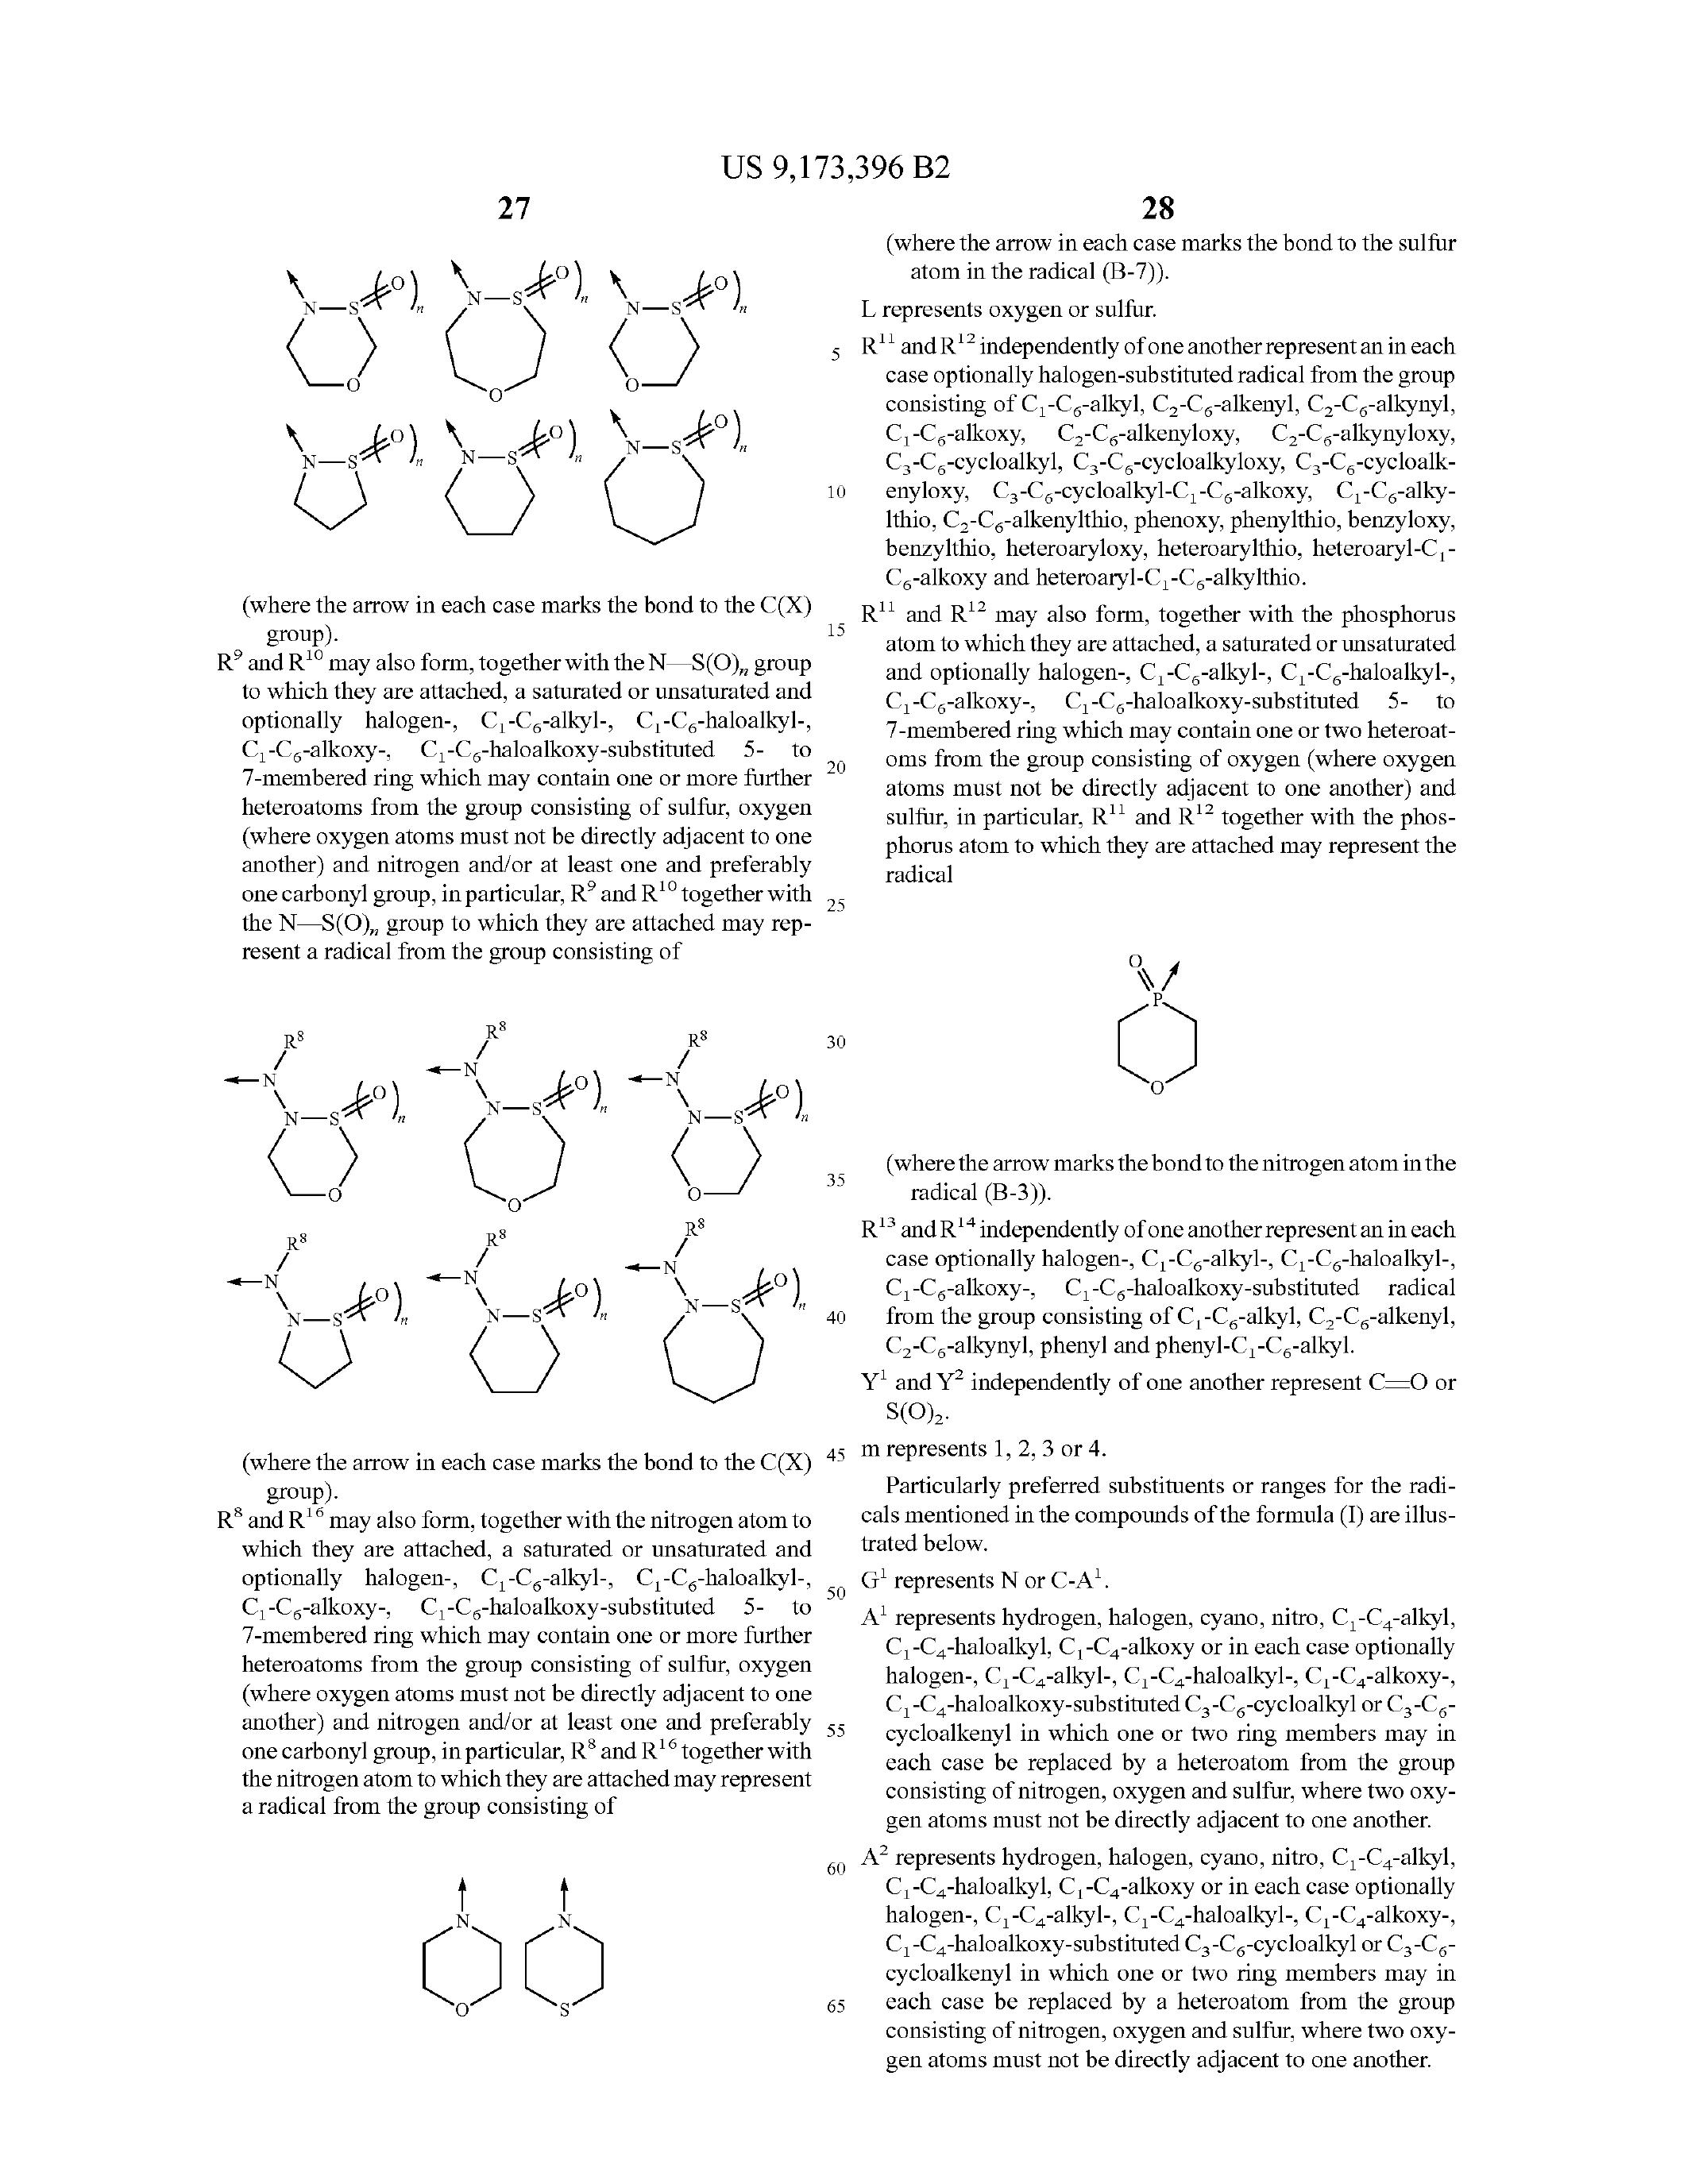intermediates: (122, 986, 805, 1431), (188, 229, 761, 571)
